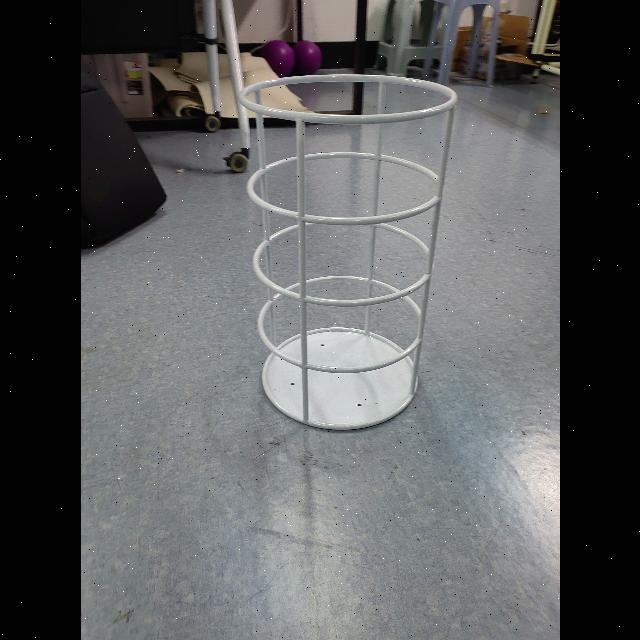S: (234, 75, 461, 433)
